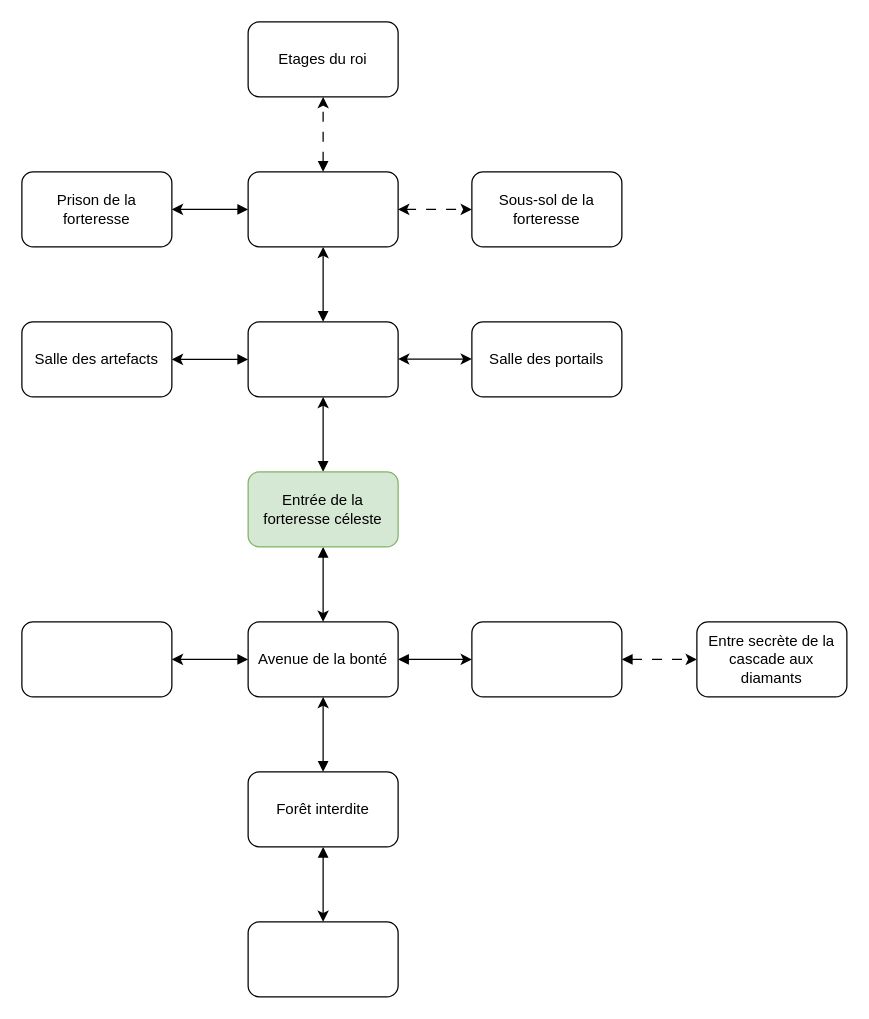
The diagram is 869 pixels wide and 1019 high, and some of its shapes have lost their labels. The box of each missing label's shape, as (x1, y1, x2, y2) in pixels:
Cascade aux diamants: (471, 621, 622, 697)
Cours de la forteresse: (247, 321, 398, 397)
Donjon de la forteresse: (247, 171, 398, 247)
Grotte de la forêt interdite: (247, 921, 398, 997)
Rivière argentée: (21, 621, 172, 697)
